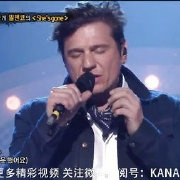Mask: (62, 44, 110, 92)
